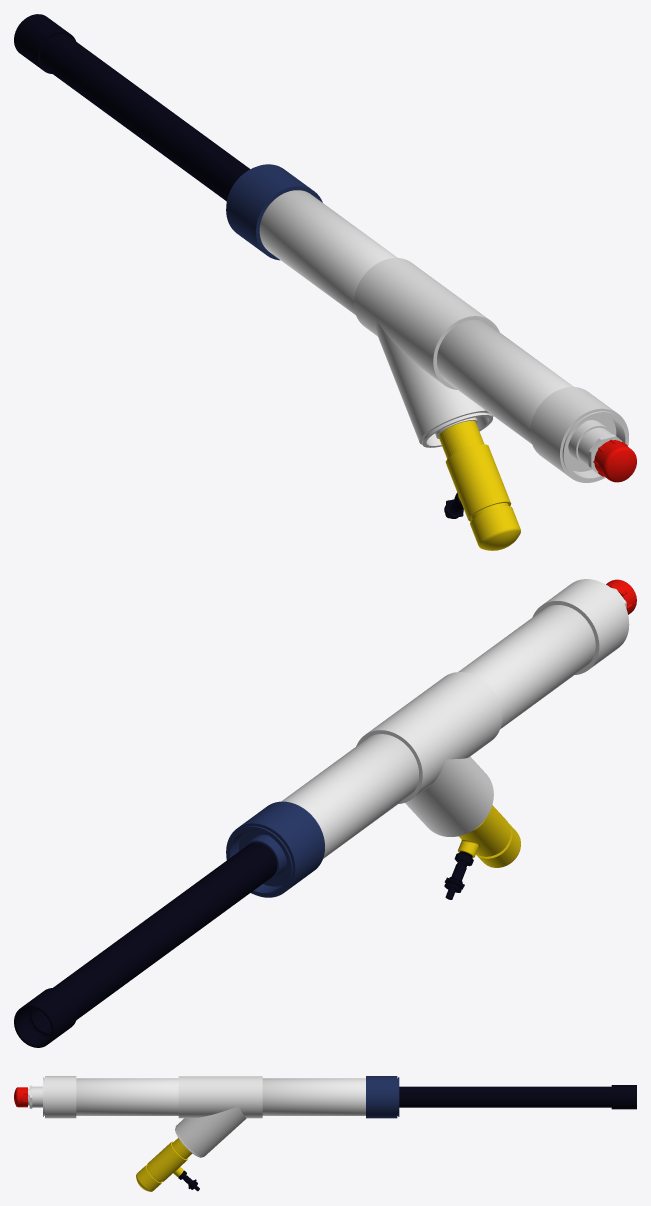
Rendered from potatogun.glb.
3 renders of one model, top to bottom at view 1: azimuth 30°, elevation 25°; view 2: azimuth 150°, elevation 25°; view 3: azimuth 270°, elevation 25°, orthographic. The views are drawn at different scales.
Parts seen in each view (by area): view 1: New object.004, New object.003, Cylinder.001, Cylinder, New object.013, New object.014, New object.008, New object.007, New object.011, New object.012, New object.017, PotatoGun (+2 smaller); view 2: New object.004, New object.003, Cylinder.001, Cylinder, New object.014, New object.013, New object.012, New object.006, New object.008, New object.011; view 3: New object.004, New object.003, Cylinder.001, Cylinder, New object.013, New object.014, New object.008, New object.012, New object.011, New object.015, New object.017, PotatoGun.
Part boxes in pixels (left/top/right/bottom): New object.004: left=354, top=258, right=499, bottom=444; New object.003: left=40, top=34, right=249, bottom=201; Cylinder.001: left=259, top=190, right=397, bottom=314; Cylinder: left=437, top=320, right=573, bottom=443; New object.013: left=226, top=164, right=322, bottom=260; New object.014: left=530, top=387, right=628, bottom=482; New object.008: left=445, top=444, right=511, bottom=521; New object.007: left=562, top=411, right=628, bottom=482; New object.011: left=470, top=506, right=520, bottom=550; New object.012: left=14, top=14, right=75, bottom=73; New object.017: left=593, top=439, right=636, bottom=482; PotatoGun: left=438, top=420, right=484, bottom=458; New object.004: left=356, top=672, right=502, bottom=836; New object.003: left=29, top=842, right=277, bottom=1035; Cylinder.001: left=281, top=734, right=418, bottom=858; Cylinder: left=458, top=605, right=595, bottom=728; New object.014: left=532, top=579, right=629, bottom=674; New object.013: left=226, top=801, right=324, bottom=897; New object.012: left=14, top=988, right=77, bottom=1047; New object.006: left=226, top=826, right=292, bottom=896; New object.008: left=458, top=805, right=510, bottom=857; New object.011: left=476, top=824, right=520, bottom=867; New object.004: left=175, top=1076, right=262, bottom=1157; New object.003: left=399, top=1086, right=611, bottom=1107; Cylinder.001: left=262, top=1078, right=365, bottom=1115; Cylinder: left=76, top=1078, right=178, bottom=1115; New object.013: left=366, top=1076, right=397, bottom=1118; New object.014: left=45, top=1076, right=76, bottom=1118; New object.008: left=147, top=1141, right=187, bottom=1181; New object.012: left=611, top=1085, right=636, bottom=1109; New object.011: left=136, top=1165, right=162, bottom=1191; New object.015: left=29, top=1085, right=42, bottom=1108; New object.017: left=14, top=1087, right=27, bottom=1107; PotatoGun: left=172, top=1138, right=192, bottom=1158.
Size of the model in its own units: 0.1201 by 0.3554 by 1.77.
